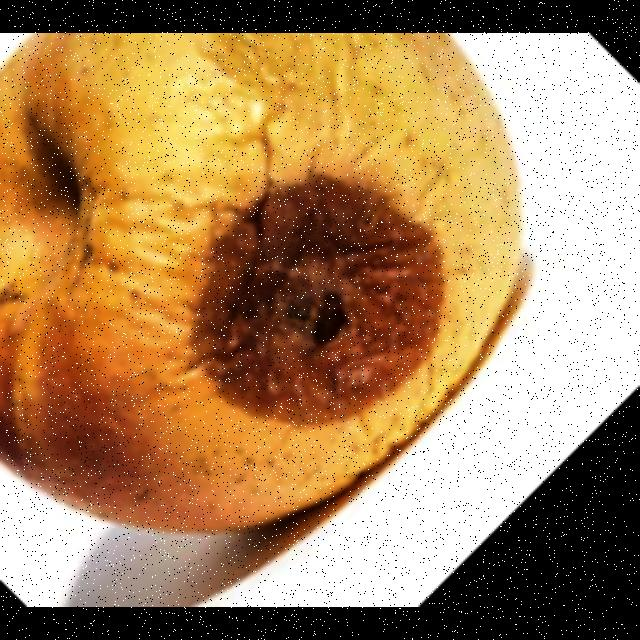Apel Tidak Segar: (1, 33, 534, 535)
